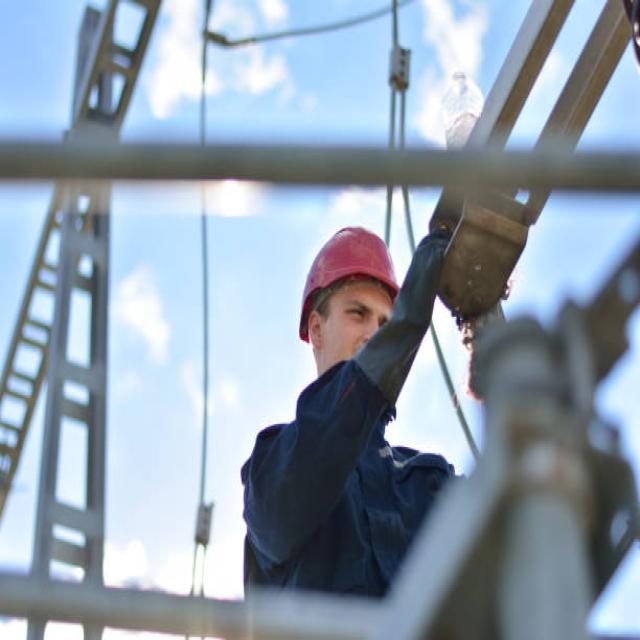gloves: (350, 228, 452, 415)
